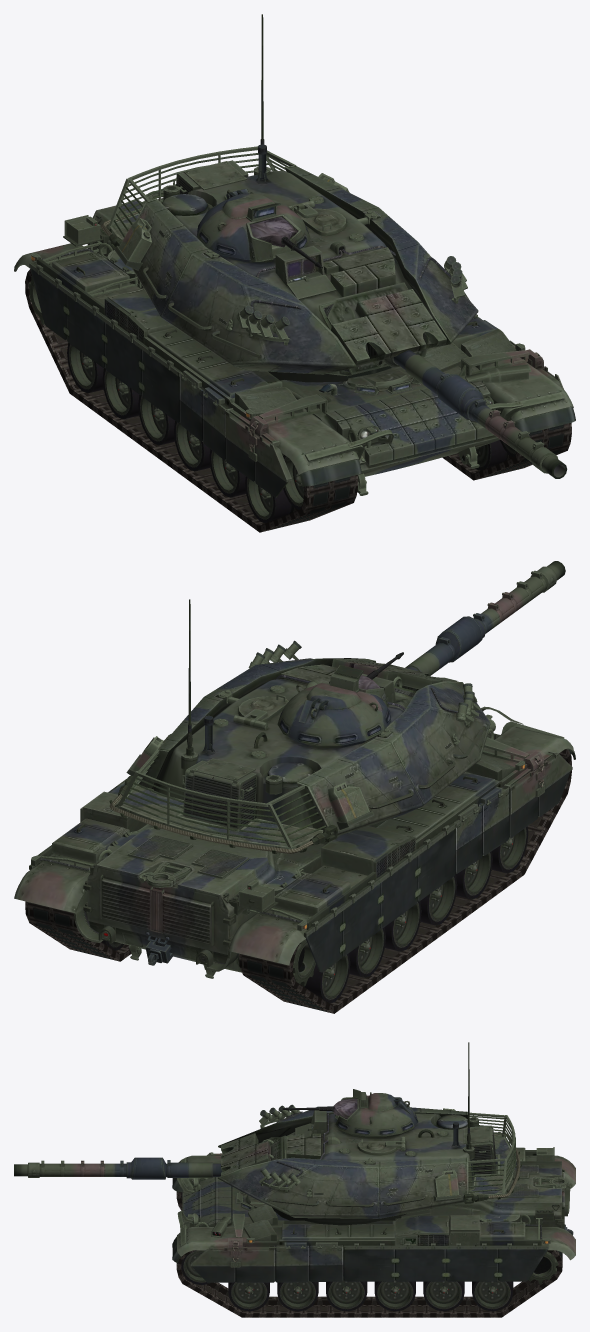
Rendered from m60-t1-sabra.glb.
3 renders of one model, top to bottom at view 1: azimuth 30°, elevation 25°; view 2: azimuth 150°, elevation 25°; view 3: azimuth 270°, elevation 25°, orthographic. The views are drawn at different scales.
Visible parts, largest first — view 1: objM60_Turret_Material #37_0, objM60_Hull_Material #36_0, objLeft_Track_Material #40_0, objRight_Wheel_4_Material #39_0; view 2: objM60_Hull_Material #36_0, objM60_Turret_Material #37_0, objLeft_Track_Material #40_0, objRight_Wheel_4_Material #39_0; view 3: objM60_Turret_Material #37_0, objM60_Hull_Material #36_0, objRight_Wheel_4_Material #39_0, objLeft_Track_Material #40_0.
Boxes of the visible parts, bbox=[...] form: objM60_Turret_Material #37_0: bbox=[100, 14, 567, 478]; objM60_Hull_Material #36_0: bbox=[14, 190, 575, 497]; objLeft_Track_Material #40_0: bbox=[25, 269, 571, 532]; objRight_Wheel_4_Material #39_0: bbox=[29, 276, 516, 523]; objM60_Hull_Material #36_0: bbox=[14, 706, 575, 978]; objM60_Turret_Material #37_0: bbox=[109, 561, 565, 853]; objLeft_Track_Material #40_0: bbox=[25, 749, 571, 1013]; objRight_Wheel_4_Material #39_0: bbox=[102, 753, 559, 1003]; objM60_Turret_Material #37_0: bbox=[14, 1042, 522, 1225]; objM60_Hull_Material #36_0: bbox=[172, 1147, 575, 1282]; objRight_Wheel_4_Material #39_0: bbox=[181, 1192, 558, 1311]; objLeft_Track_Material #40_0: bbox=[176, 1191, 562, 1317].
Size of the model in its own units: 10.13 by 11.81 by 24.74.
5 materials, 5 textured.
